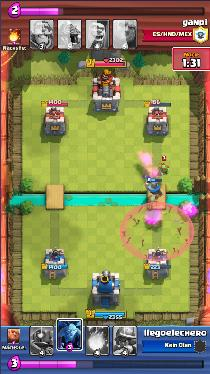ally_knight: (145, 182, 163, 196)
enemy_arrow: (120, 203, 194, 261)
enemy_spear_goblin: (159, 164, 170, 175)
